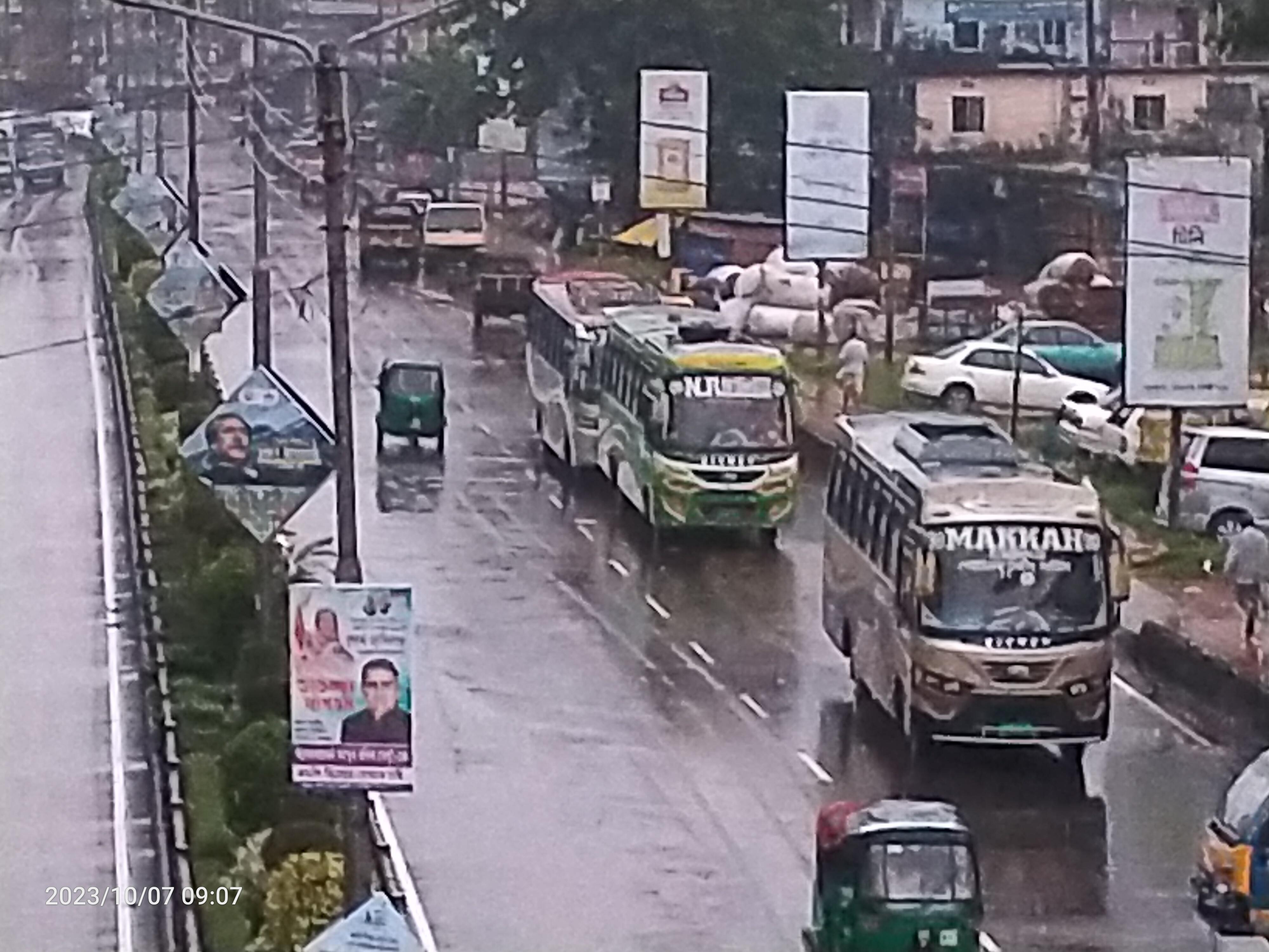Bus: (810, 374, 1148, 789), (574, 281, 820, 575), (504, 248, 641, 495)
Car: (884, 329, 1132, 435), (1138, 396, 1269, 571), (970, 299, 1174, 388), (1041, 373, 1165, 464)
Truck: (1159, 693, 1269, 947), (405, 172, 506, 279)
